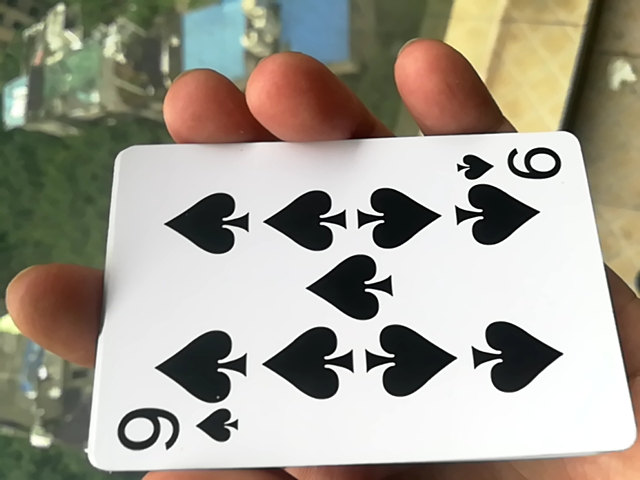ht 9: (70, 134, 630, 476)
